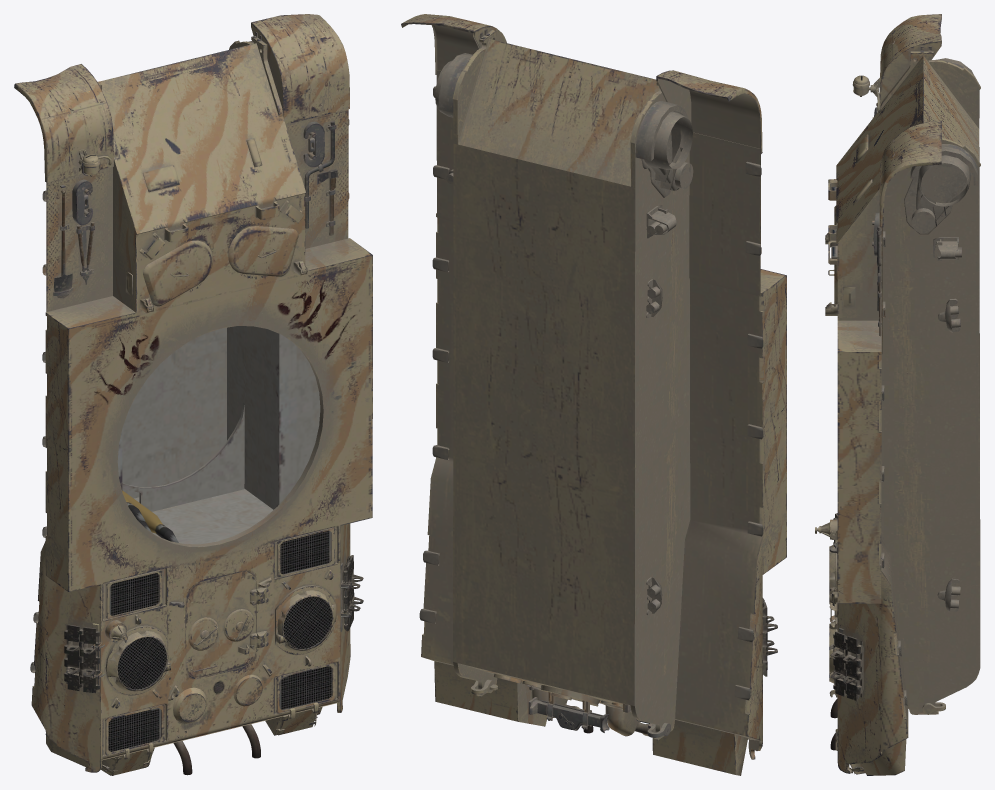
The model's file is Hull.glb.
The picture shows the model from 3 angles, left to right: view 1: azimuth 30°, elevation 25°; view 2: azimuth 150°, elevation 25°; view 3: azimuth 270°, elevation 25°; orthographic projection. The views are drawn at different scales.
Parts seen in each view (by area): view 1: set_0_group_0; view 2: set_0_group_0; view 3: set_0_group_0.
Boxes of the visible parts, x1=… form: set_0_group_0: x1=14, y1=14, x2=372, y2=775; set_0_group_0: x1=401, y1=14, x2=786, y2=775; set_0_group_0: x1=815, y1=14, x2=980, y2=775.
Bounding box in the file's own units: 3.31 × 6.99 × 1.61.
1 material, 1 textured.
